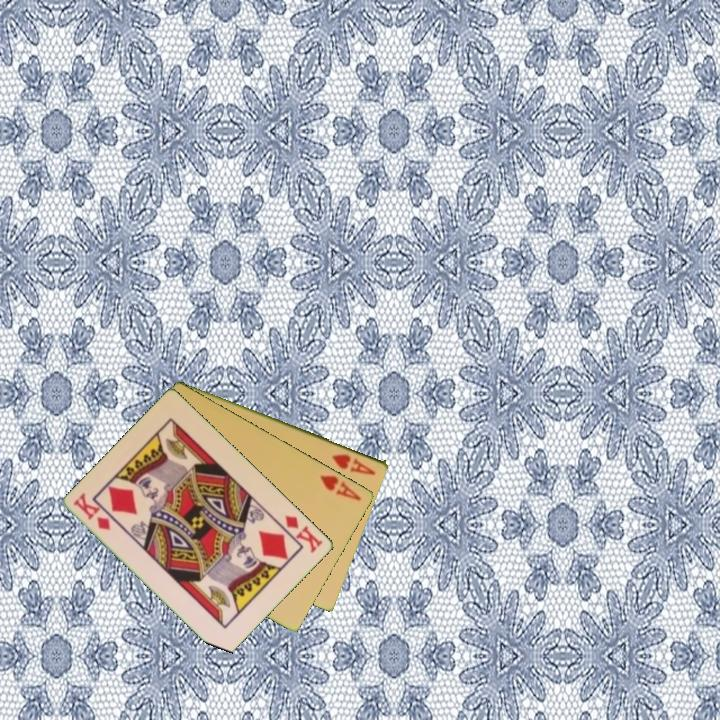Ah: (317, 471, 365, 503), (329, 450, 379, 478)
Kd: (282, 511, 326, 556), (70, 490, 114, 533)
